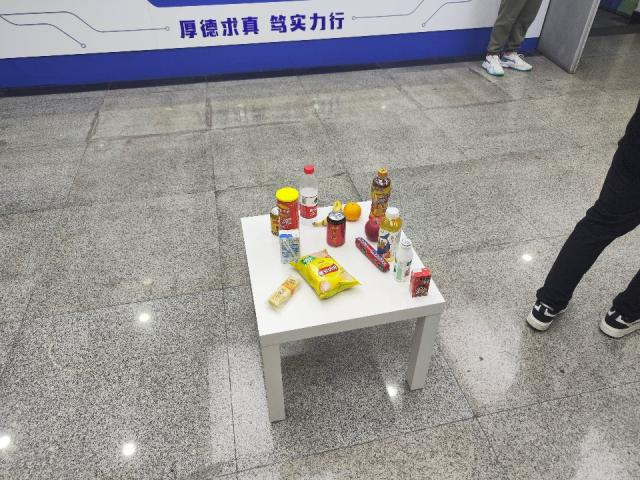Canned_drinks: (325, 213, 350, 250)
